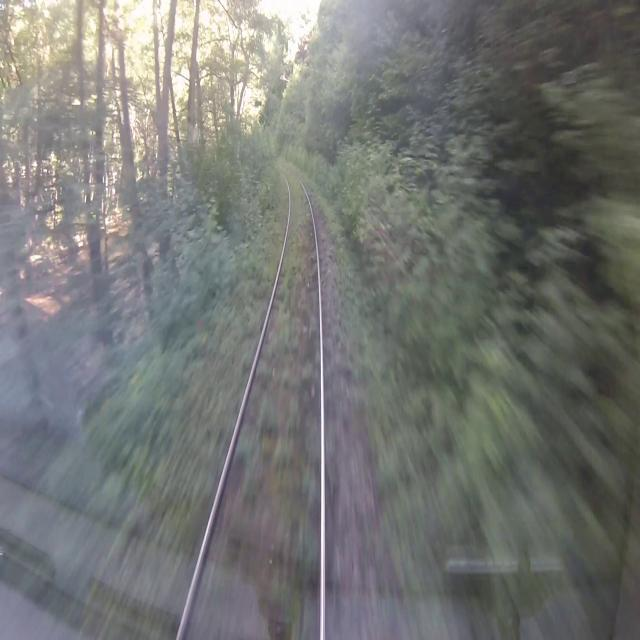Plant: (131, 166, 289, 639), (218, 142, 317, 639), (324, 350, 391, 639)
